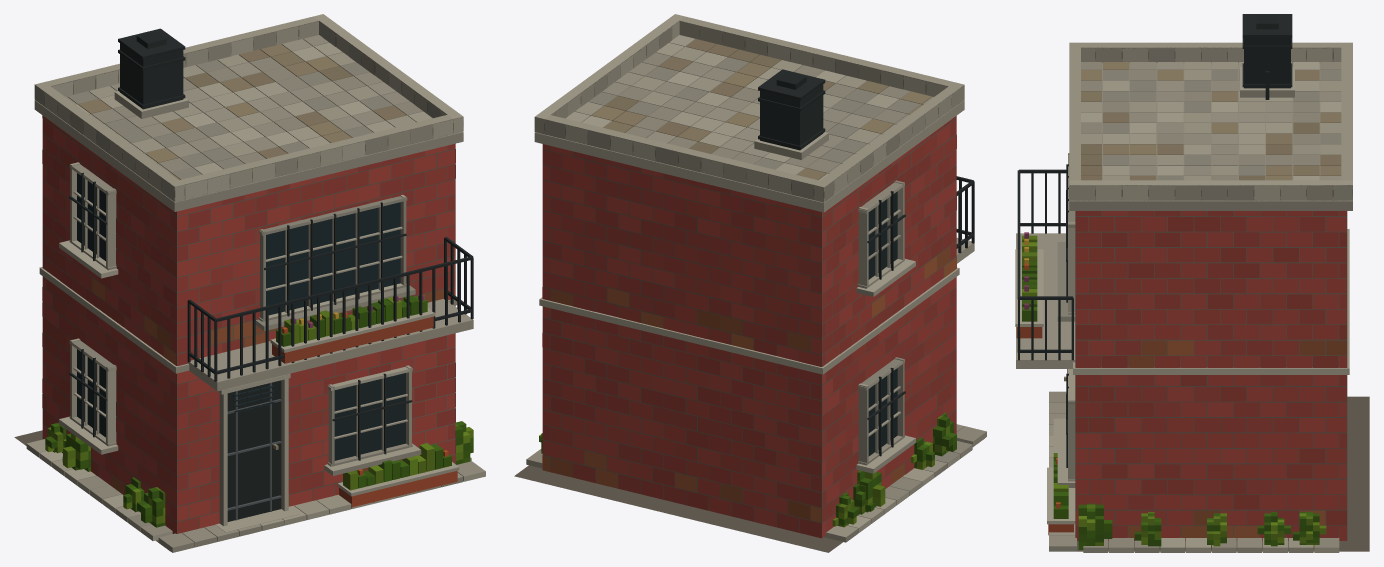
The model's file is SM_Mapa_068.fbx.
3 renders of one model, left to right at view 1: azimuth 30°, elevation 25°; view 2: azimuth 150°, elevation 25°; view 3: azimuth 270°, elevation 25°, orthographic.
Visible parts, largest first — view 1: SM_Mapa_068; view 2: SM_Mapa_068; view 3: SM_Mapa_068.
Boxes of the visible parts, x1,y1,x2,y2 form: SM_Mapa_068: (14, 14, 485, 552); SM_Mapa_068: (514, 14, 986, 552); SM_Mapa_068: (1015, 14, 1369, 552).
Bounding box in the file's own units: 8 × 7.51 × 9.85.
